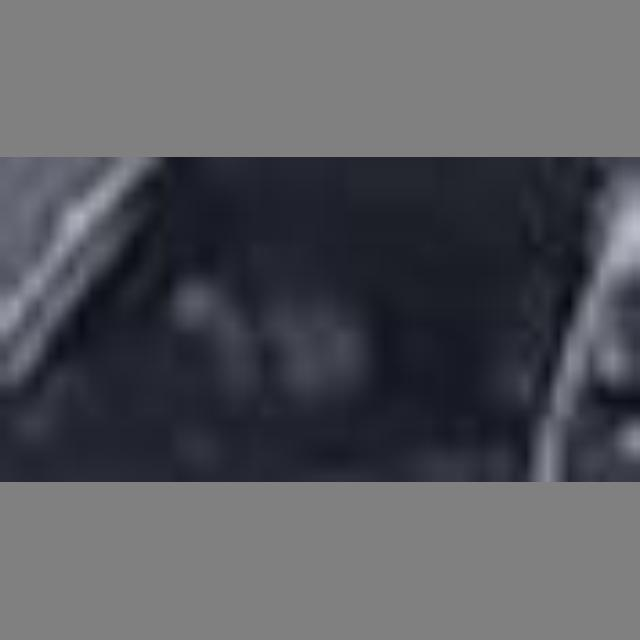pakai: (130, 244, 369, 428)
